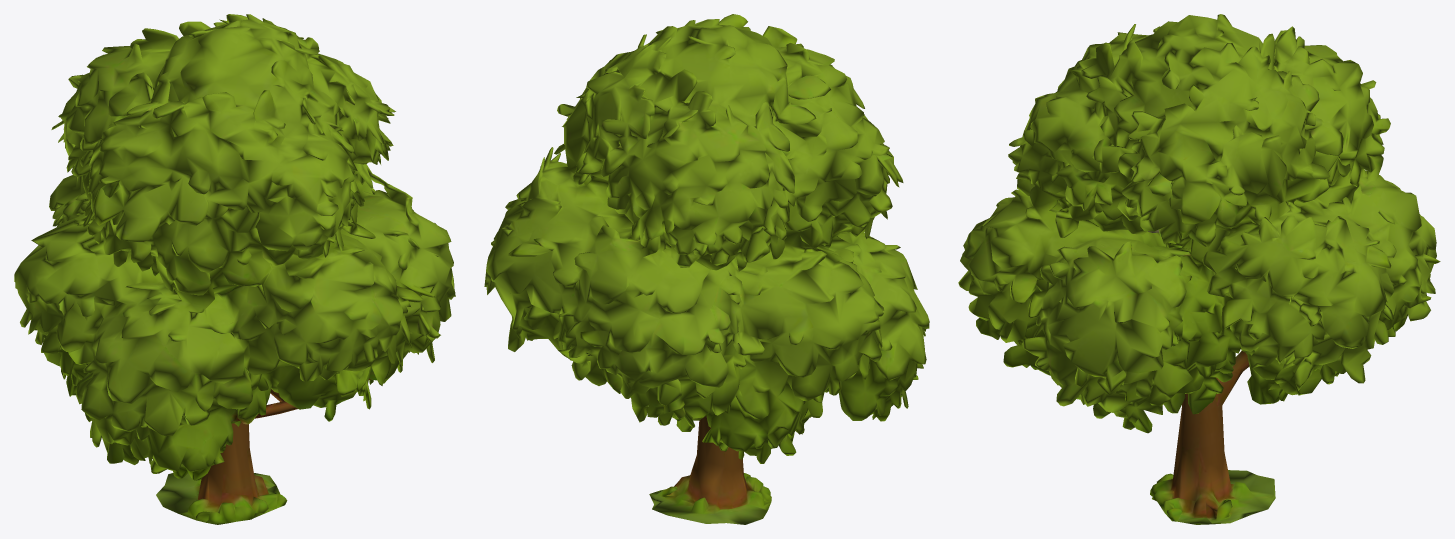
File: prop_tree_b.glb
The picture shows the model from 3 angles, left to right: view 1: azimuth 30°, elevation 25°; view 2: azimuth 150°, elevation 25°; view 3: azimuth 270°, elevation 25°; orthographic projection.
Visible parts, largest first — view 1: tripo_node_8e2ada5d-57d5-46ca-88d5-f98af95ab678; view 2: tripo_node_8e2ada5d-57d5-46ca-88d5-f98af95ab678; view 3: tripo_node_8e2ada5d-57d5-46ca-88d5-f98af95ab678.
Boxes of the visible parts, x1,y1,x2,y2 form: tripo_node_8e2ada5d-57d5-46ca-88d5-f98af95ab678: (14,14,455,524); tripo_node_8e2ada5d-57d5-46ca-88d5-f98af95ab678: (484,14,929,524); tripo_node_8e2ada5d-57d5-46ca-88d5-f98af95ab678: (958,14,1440,524).
Bounding box in the file's own units: 0.7955 × 0.9981 × 0.9068.
1 material, 1 textured.
